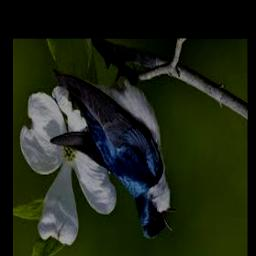Swallow: (50, 65, 176, 239)
